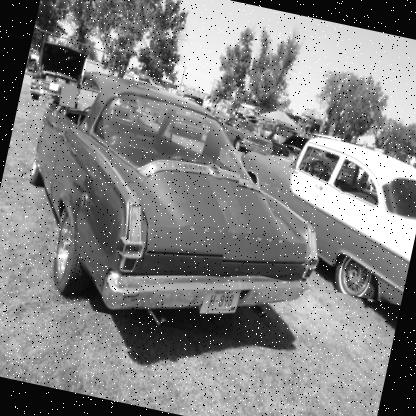Car: (5, 64, 344, 354), (220, 121, 415, 307), (28, 42, 89, 110), (216, 112, 277, 158)
